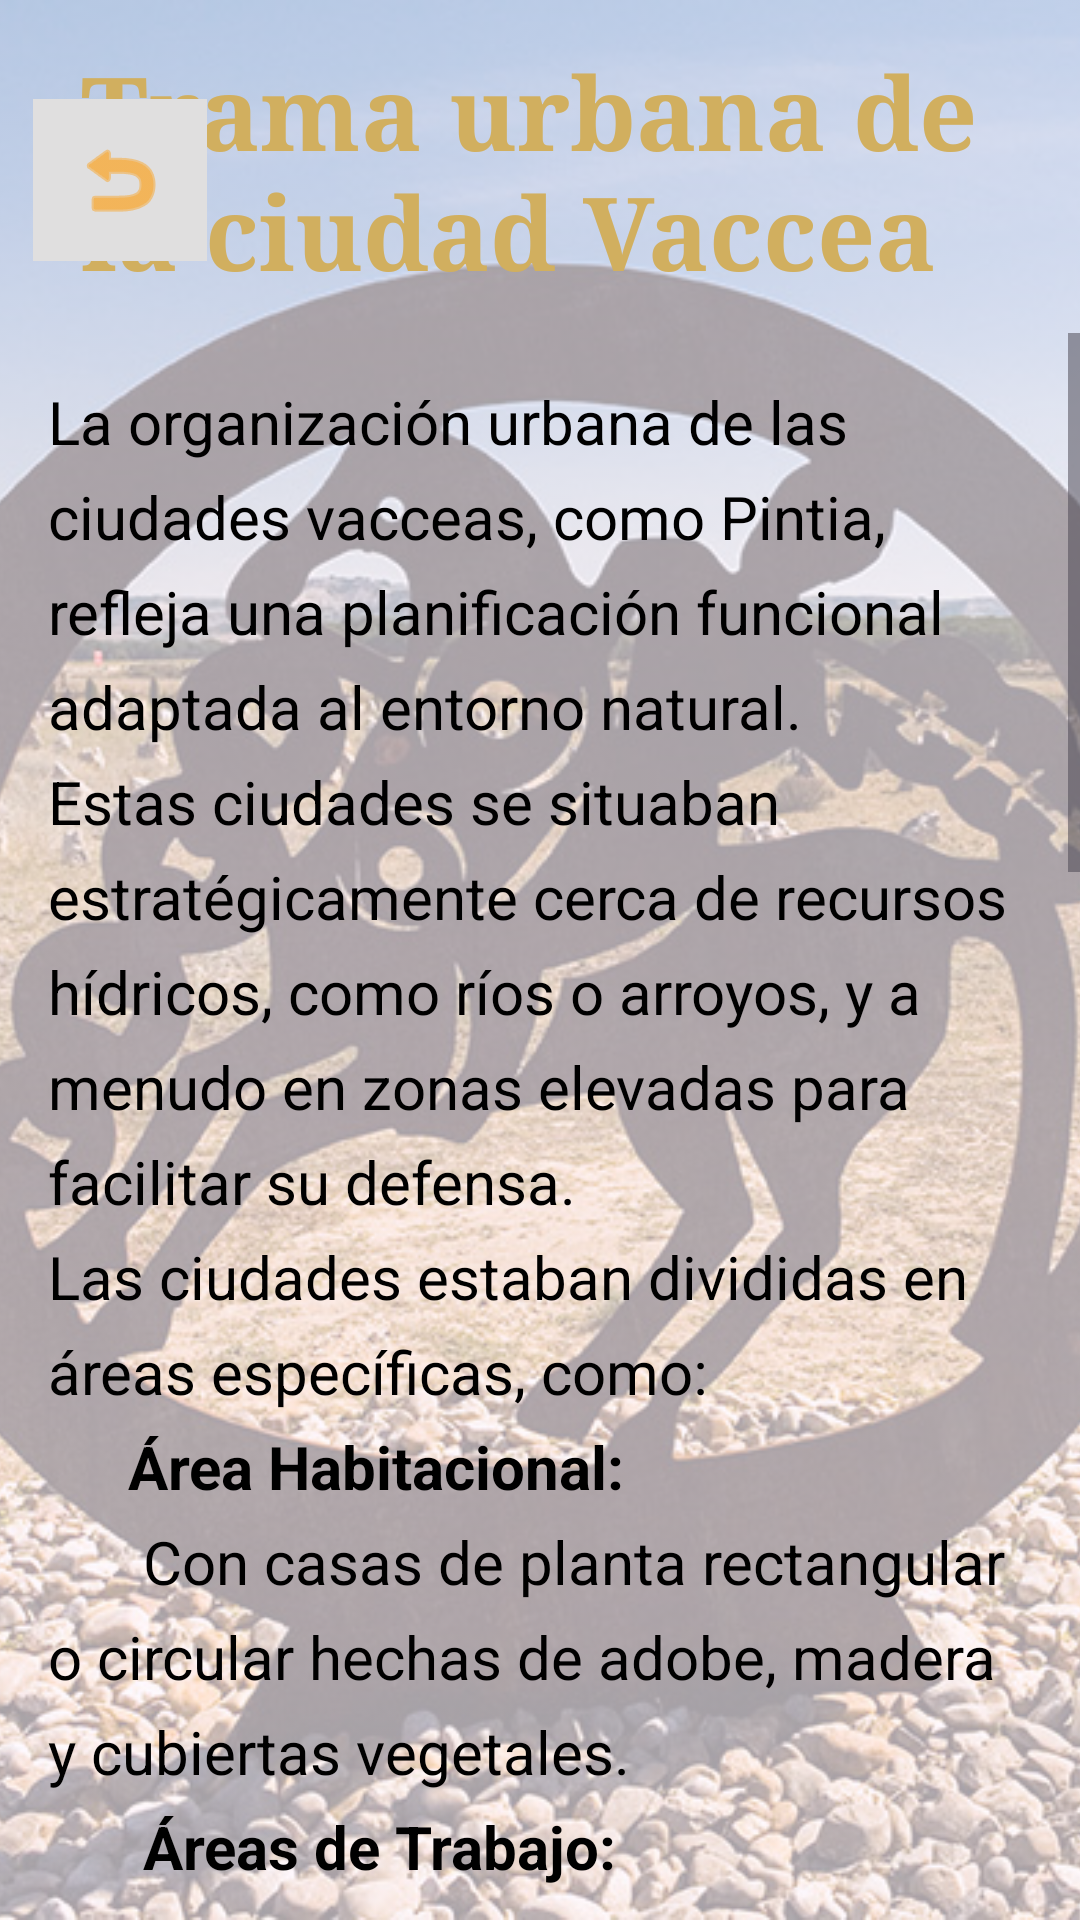

Point at icon controls on the screen. Image size 1080x1920, points as [x,y].
revert: [120,180]
